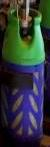cylinder: (1, 1, 50, 147)
